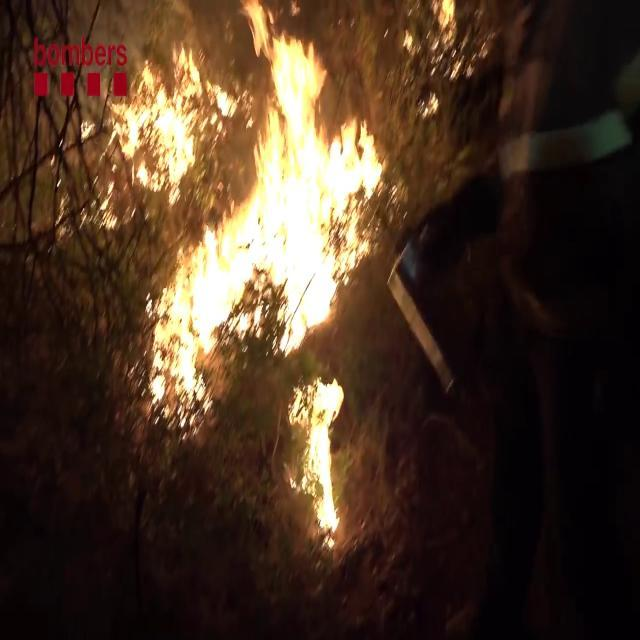Fire: (113, 1, 414, 422), (282, 366, 354, 542)
